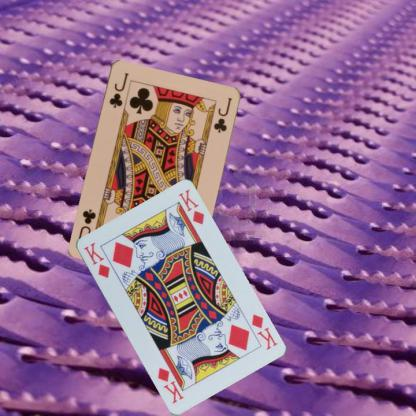Jc: (106, 70, 130, 110)
Kd: (80, 239, 111, 280), (249, 311, 278, 351)
